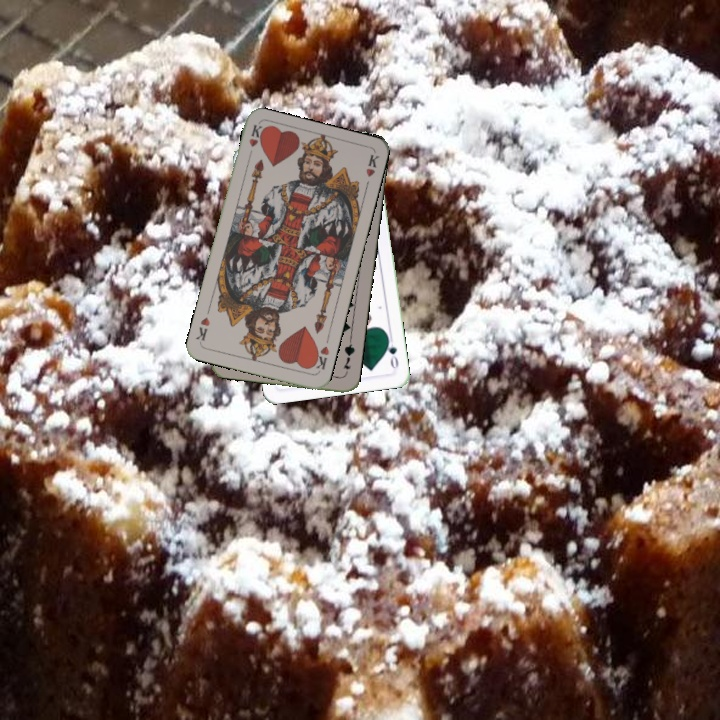G7: (339, 337, 357, 377)
GO: (382, 331, 401, 372)
HK: (244, 121, 265, 162), (308, 342, 332, 372)
